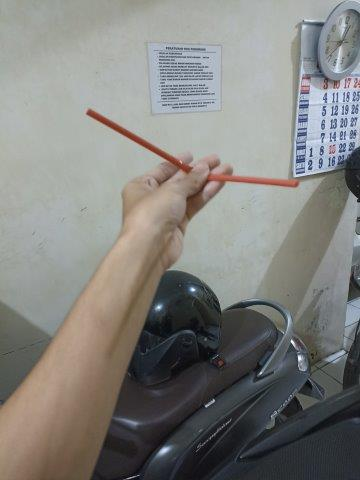sedotan: (87, 108, 297, 187)
